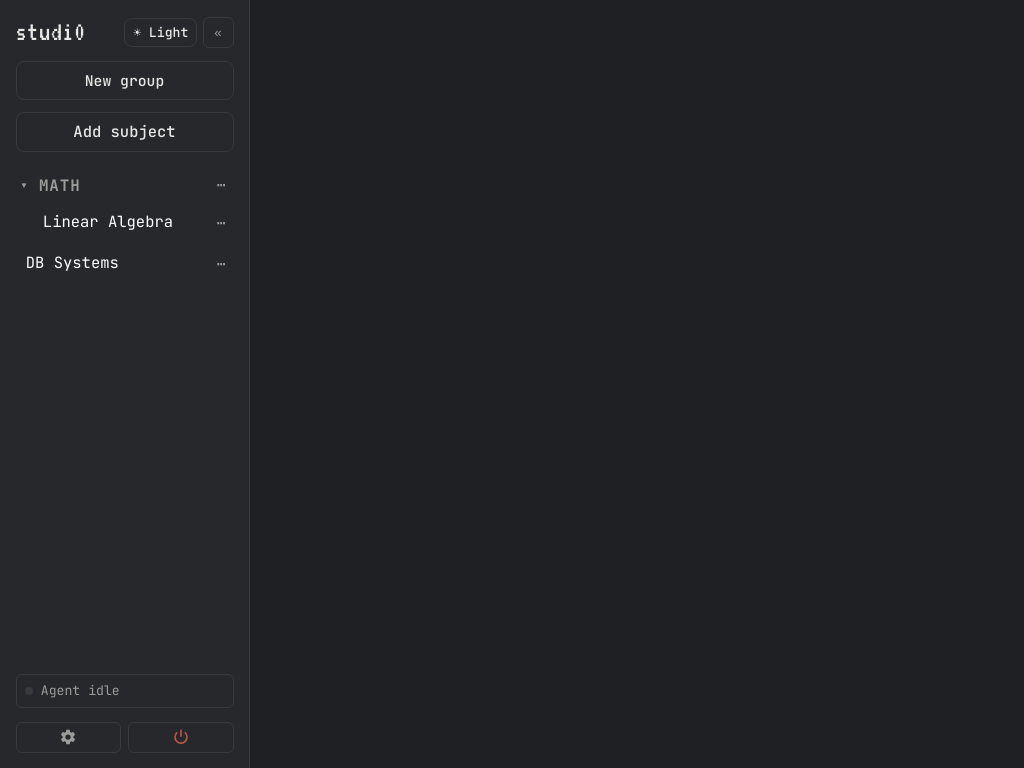
it: Sidebar groups and menus › shows the moved/skipped report after a merge
The image size is (1024, 768).
Click the button named "Linear Algebra options": (221,223) [209, 202, 234, 243]
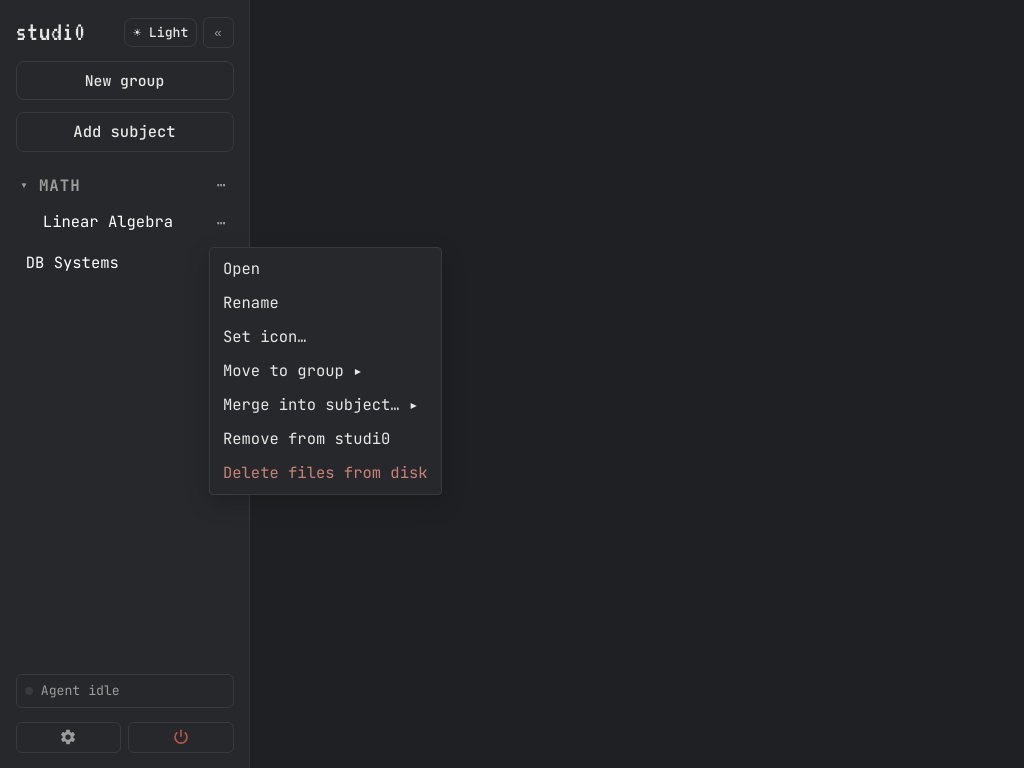
Click the menu item "Merge into subject… ▸": (325,405) [214, 388, 437, 422]
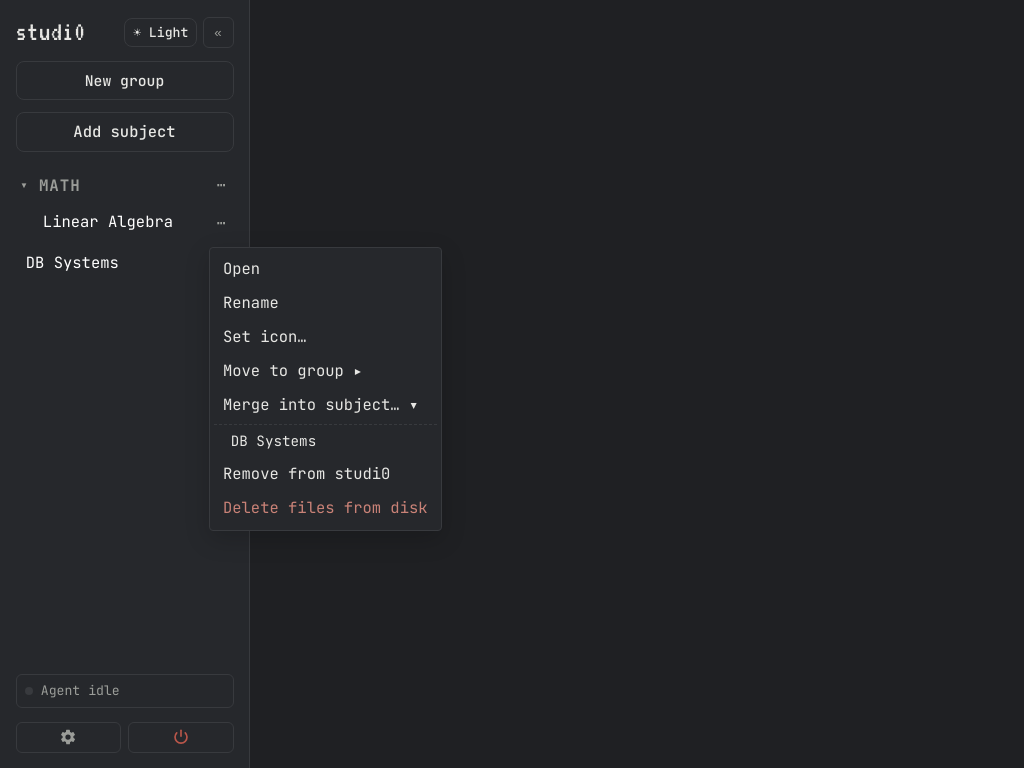
Click the menu item "DB Systems": (325,441) [214, 425, 437, 457]
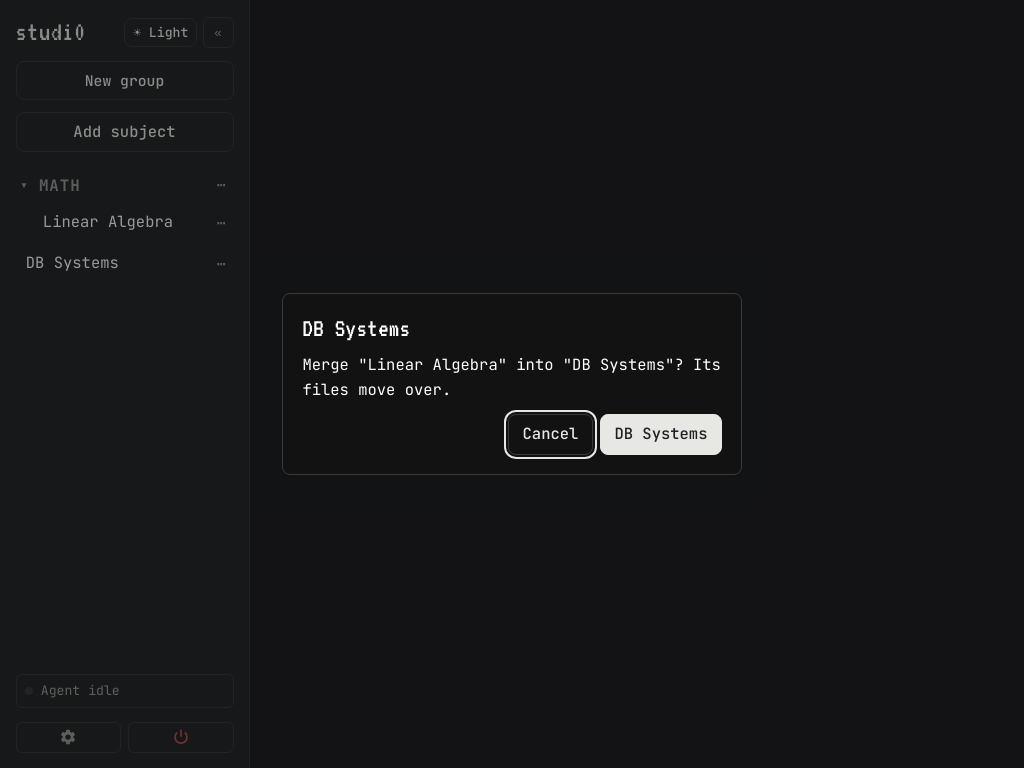
// the merge asks in an in-app dialog before moving files
Click the button "DB Systems": (661,434) [600, 414, 722, 455]
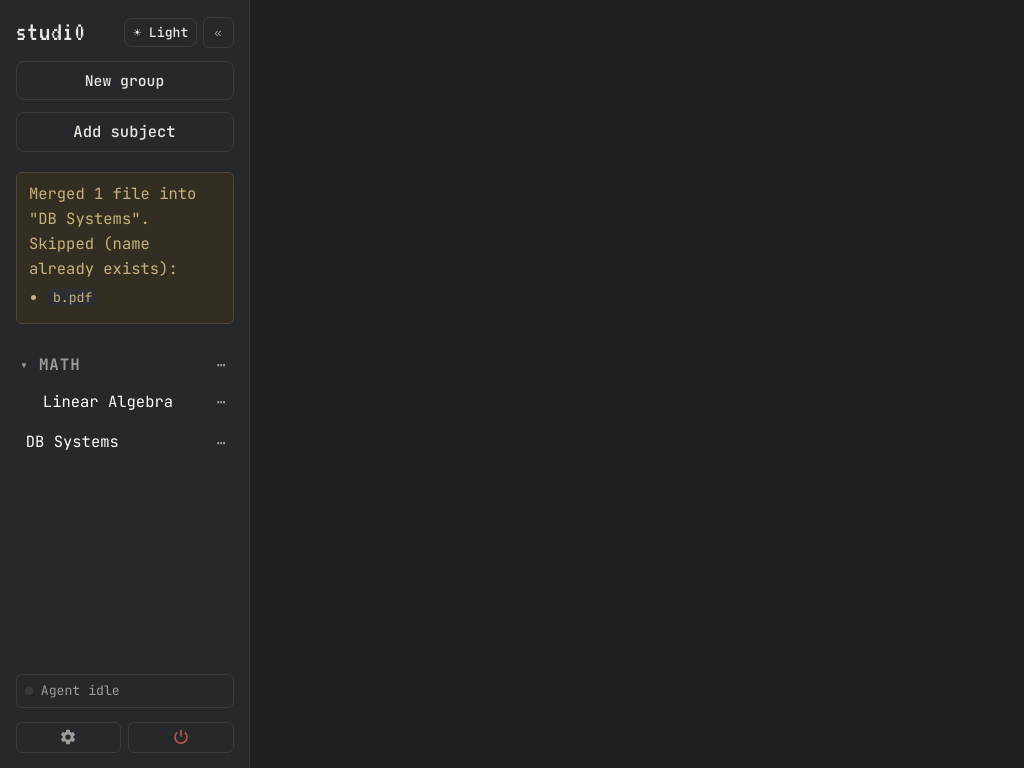
expect the text "Merged 1 file into \"DB Systems\". Skipped (name already exists): b.pdf" is shown: met, box [16, 172, 234, 324]
expect the text "b.pdf" is shown: met, box [48, 289, 97, 306]
